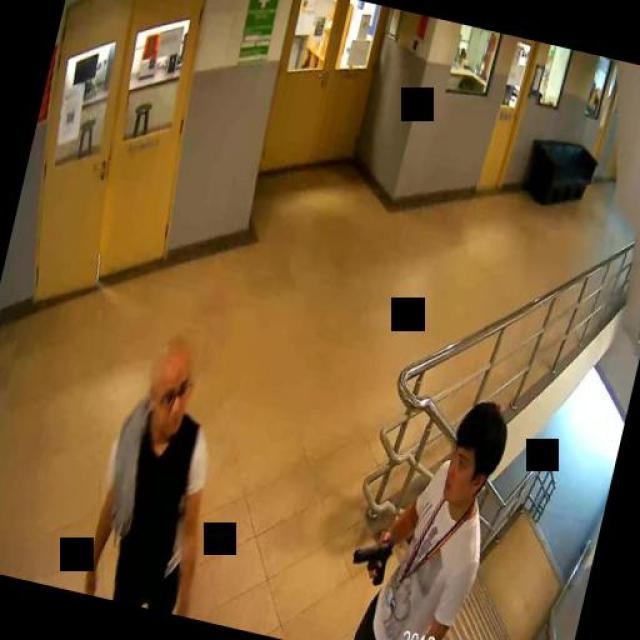gun: (348, 530, 393, 585)
